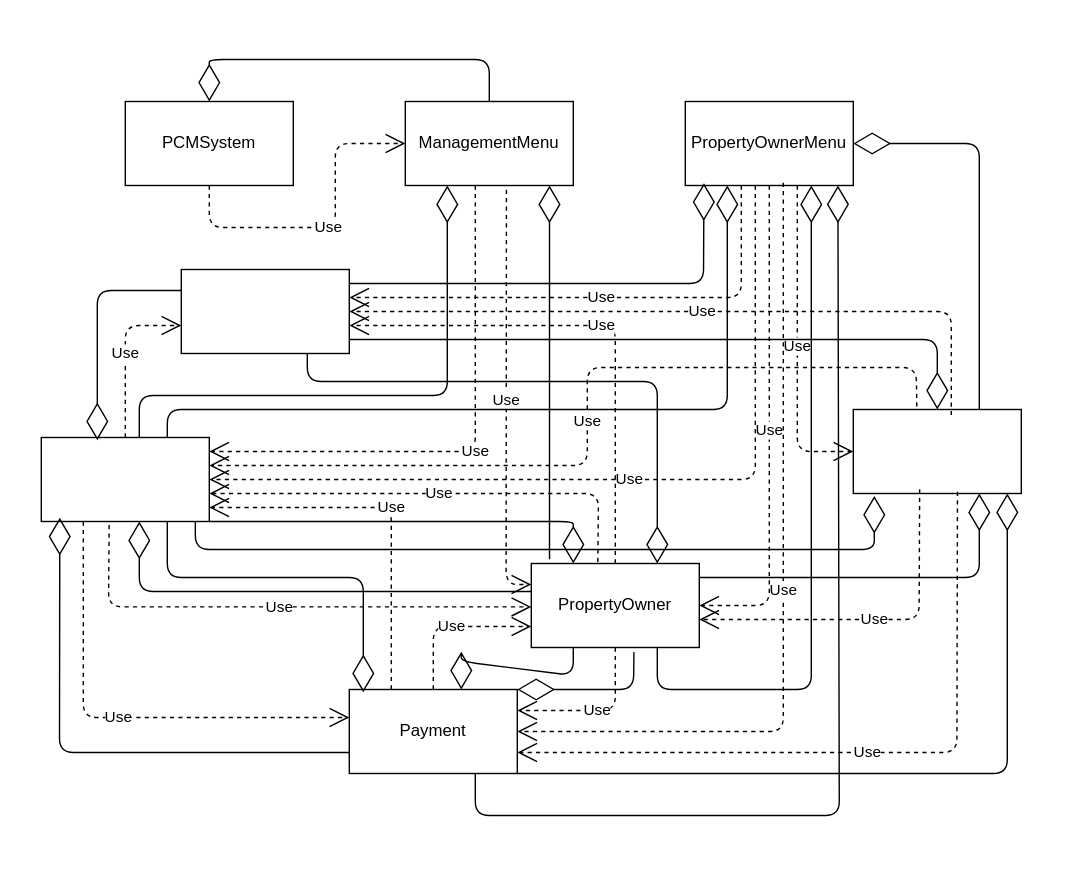
The diagram is 1068 pixels wide and 876 high, and some of its shapes have lost their labels. The shapes that lost their labels are listed below. From the top down, each one's centre as x and y in pixels, then its label:
At point 264,311: "Address".
At point 936,450: "PropertyOwnerList".
At point 124,479: "Property".
